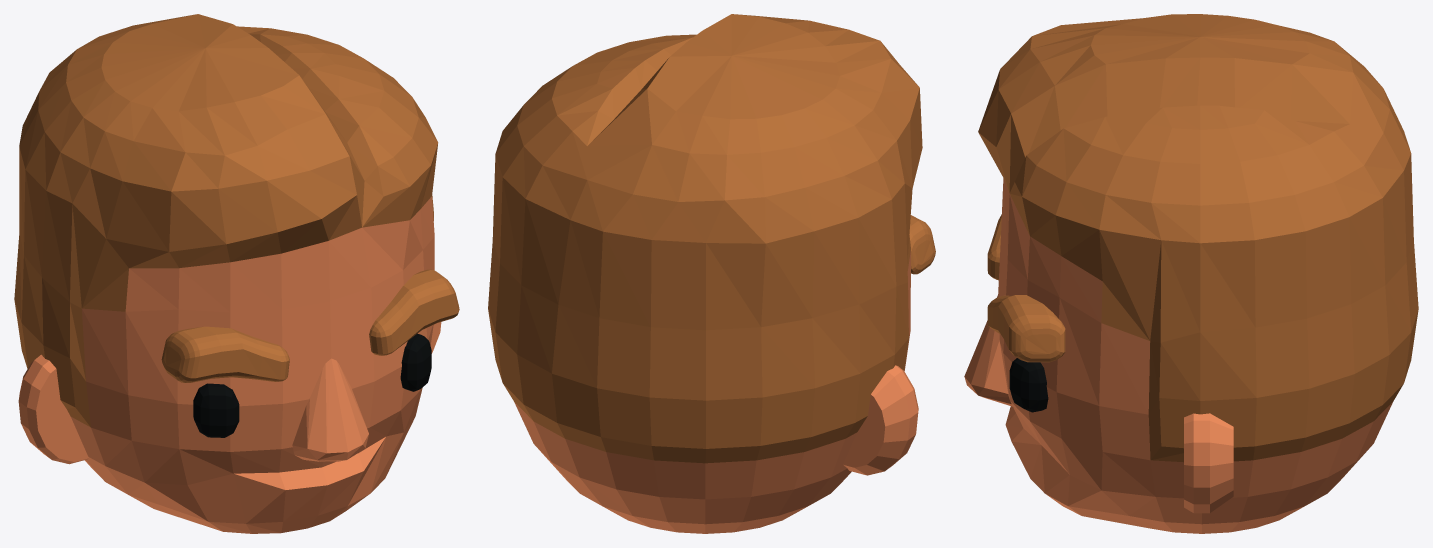
Rendered from character_knightHead.obj.
3 views of the same model, side by side, from view 1: azimuth 30°, elevation 25°; view 2: azimuth 150°, elevation 25°; view 3: azimuth 270°, elevation 25° (orthographic).
Visible parts, largest first — view 1: character_knightHead_Cube.015; view 2: character_knightHead_Cube.015; view 3: character_knightHead_Cube.015.
Boxes of the visible parts, bbox=[...] form: character_knightHead_Cube.015: bbox=[14, 14, 459, 533]; character_knightHead_Cube.015: bbox=[488, 14, 935, 533]; character_knightHead_Cube.015: bbox=[964, 14, 1418, 533].
Size of the model in its own units: 1.18 by 1.19 by 1.11.
